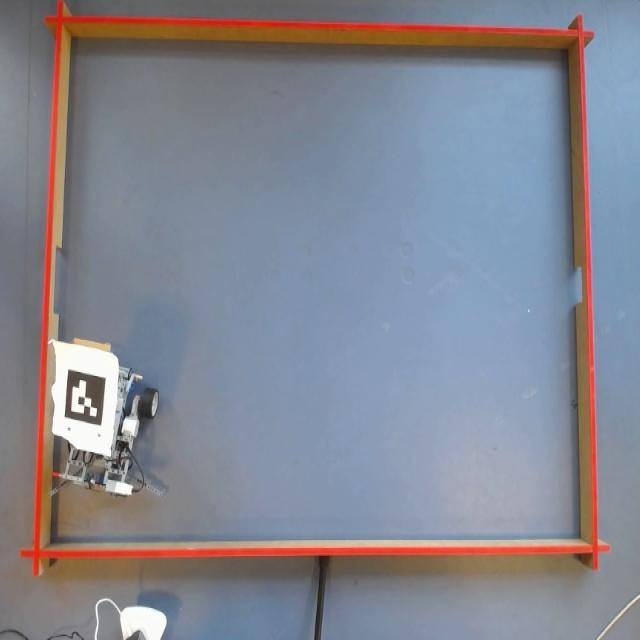ev3: (47, 341, 139, 498)
